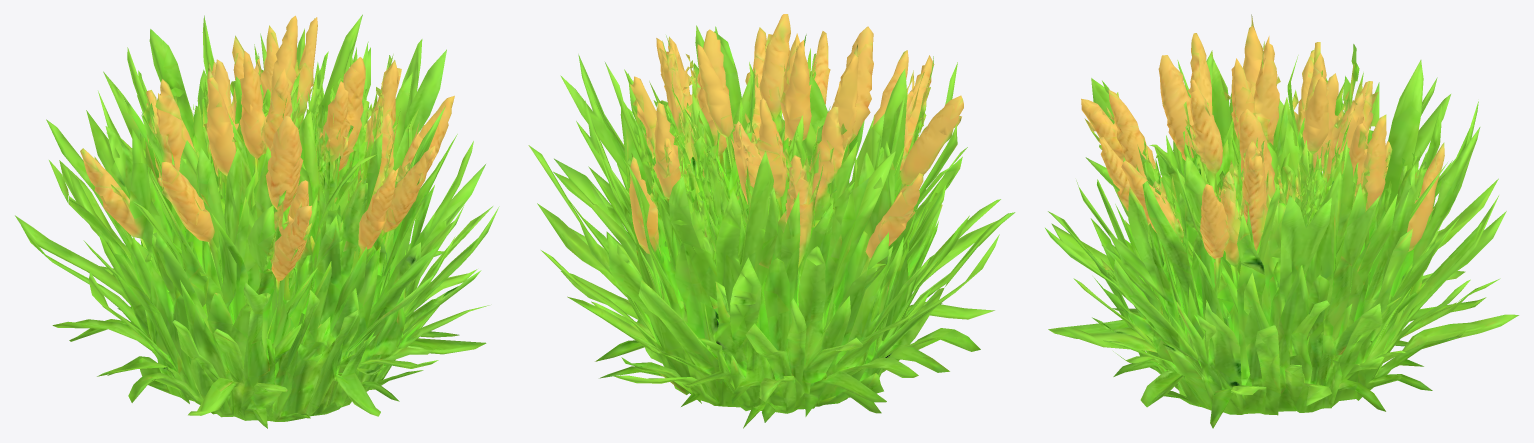
The model's file is wheat-growing.glb.
The picture shows the model from 3 angles, left to right: view 1: azimuth 30°, elevation 25°; view 2: azimuth 150°, elevation 25°; view 3: azimuth 270°, elevation 25°; orthographic projection. The views are drawn at different scales.
Visible parts, largest first — view 1: Mesh_0.001; view 2: Mesh_0.001; view 3: Mesh_0.001.
Part boxes in pixels (x1=…): Mesh_0.001: x1=15, y1=14, x2=499, y2=428; Mesh_0.001: x1=528, y1=14, x2=1015, y2=428; Mesh_0.001: x1=1045, y1=14, x2=1518, y2=428.
Bounding box in the file's own units: 0.7923 × 0.6001 × 0.7909.
1 material, 1 textured.
